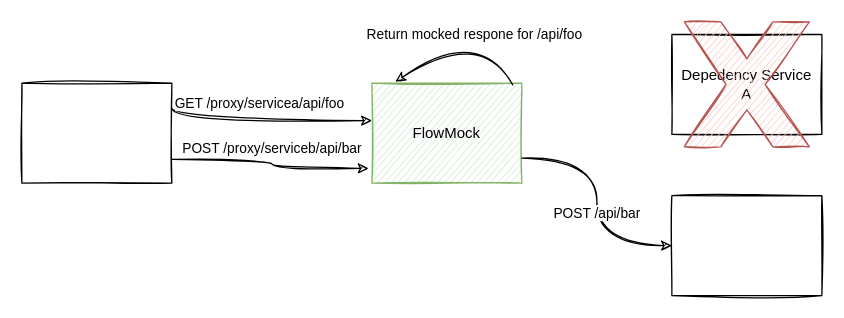
Some shapes in this 844 by 318 pixel diagram are drawn without their labels. Each missing label, with the box of its shape:
Depedency Service B: (671, 194, 822, 296)
Target Service: (21, 82, 172, 183)
